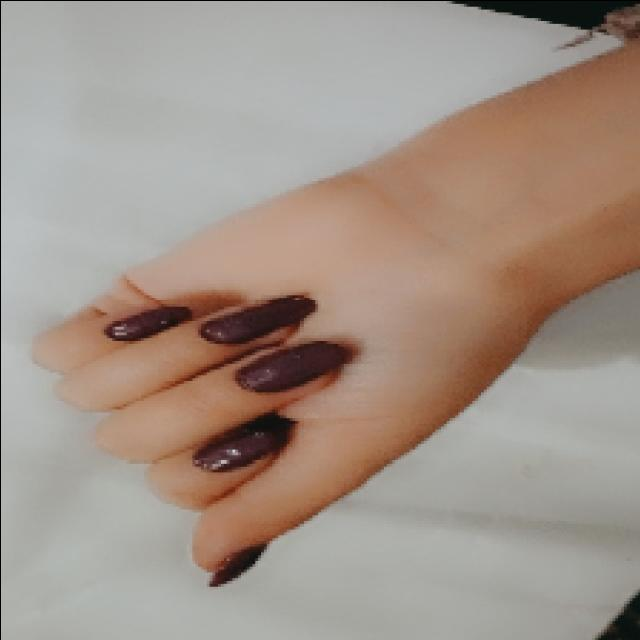Nail: (192, 411, 292, 471), (234, 341, 349, 392), (199, 295, 315, 344), (104, 306, 190, 340), (208, 542, 265, 586)
